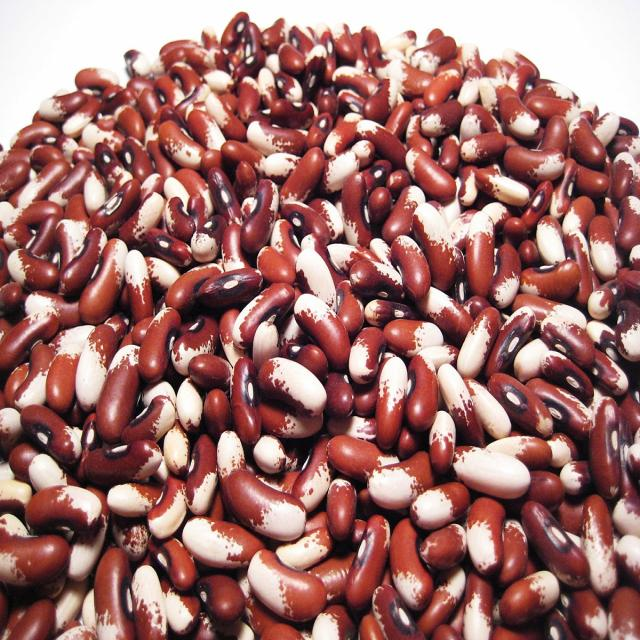frijoles: (6, 22, 625, 625)
